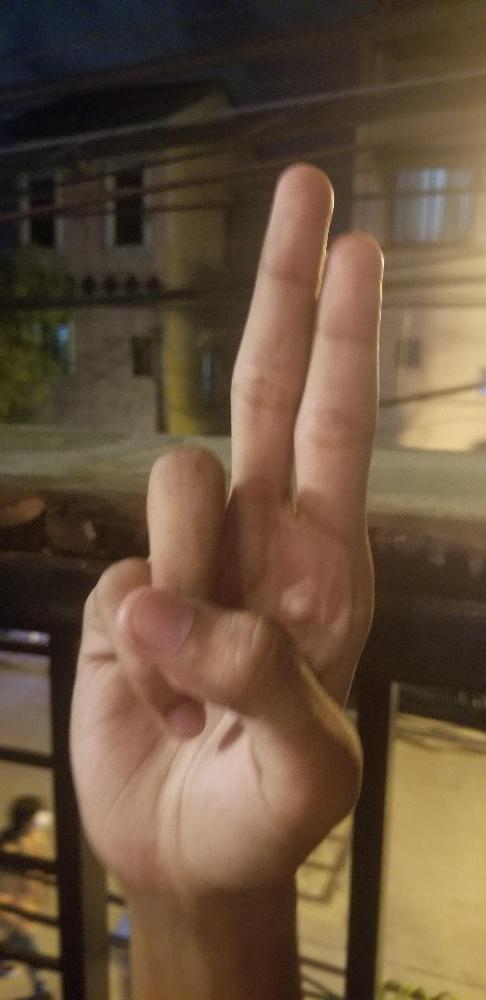u: (63, 161, 384, 869)
